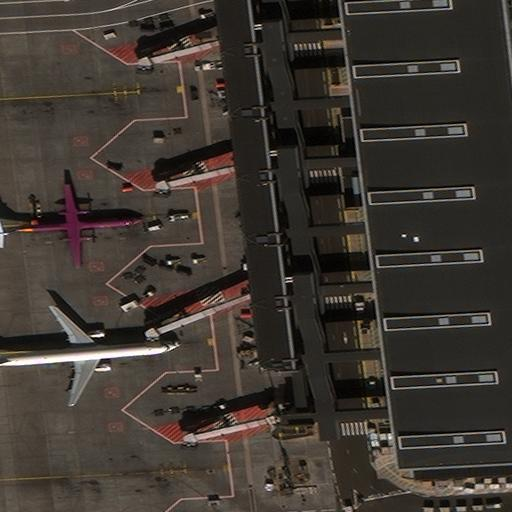Medium Civil Transport: (0, 305, 179, 404), (0, 184, 141, 267)
